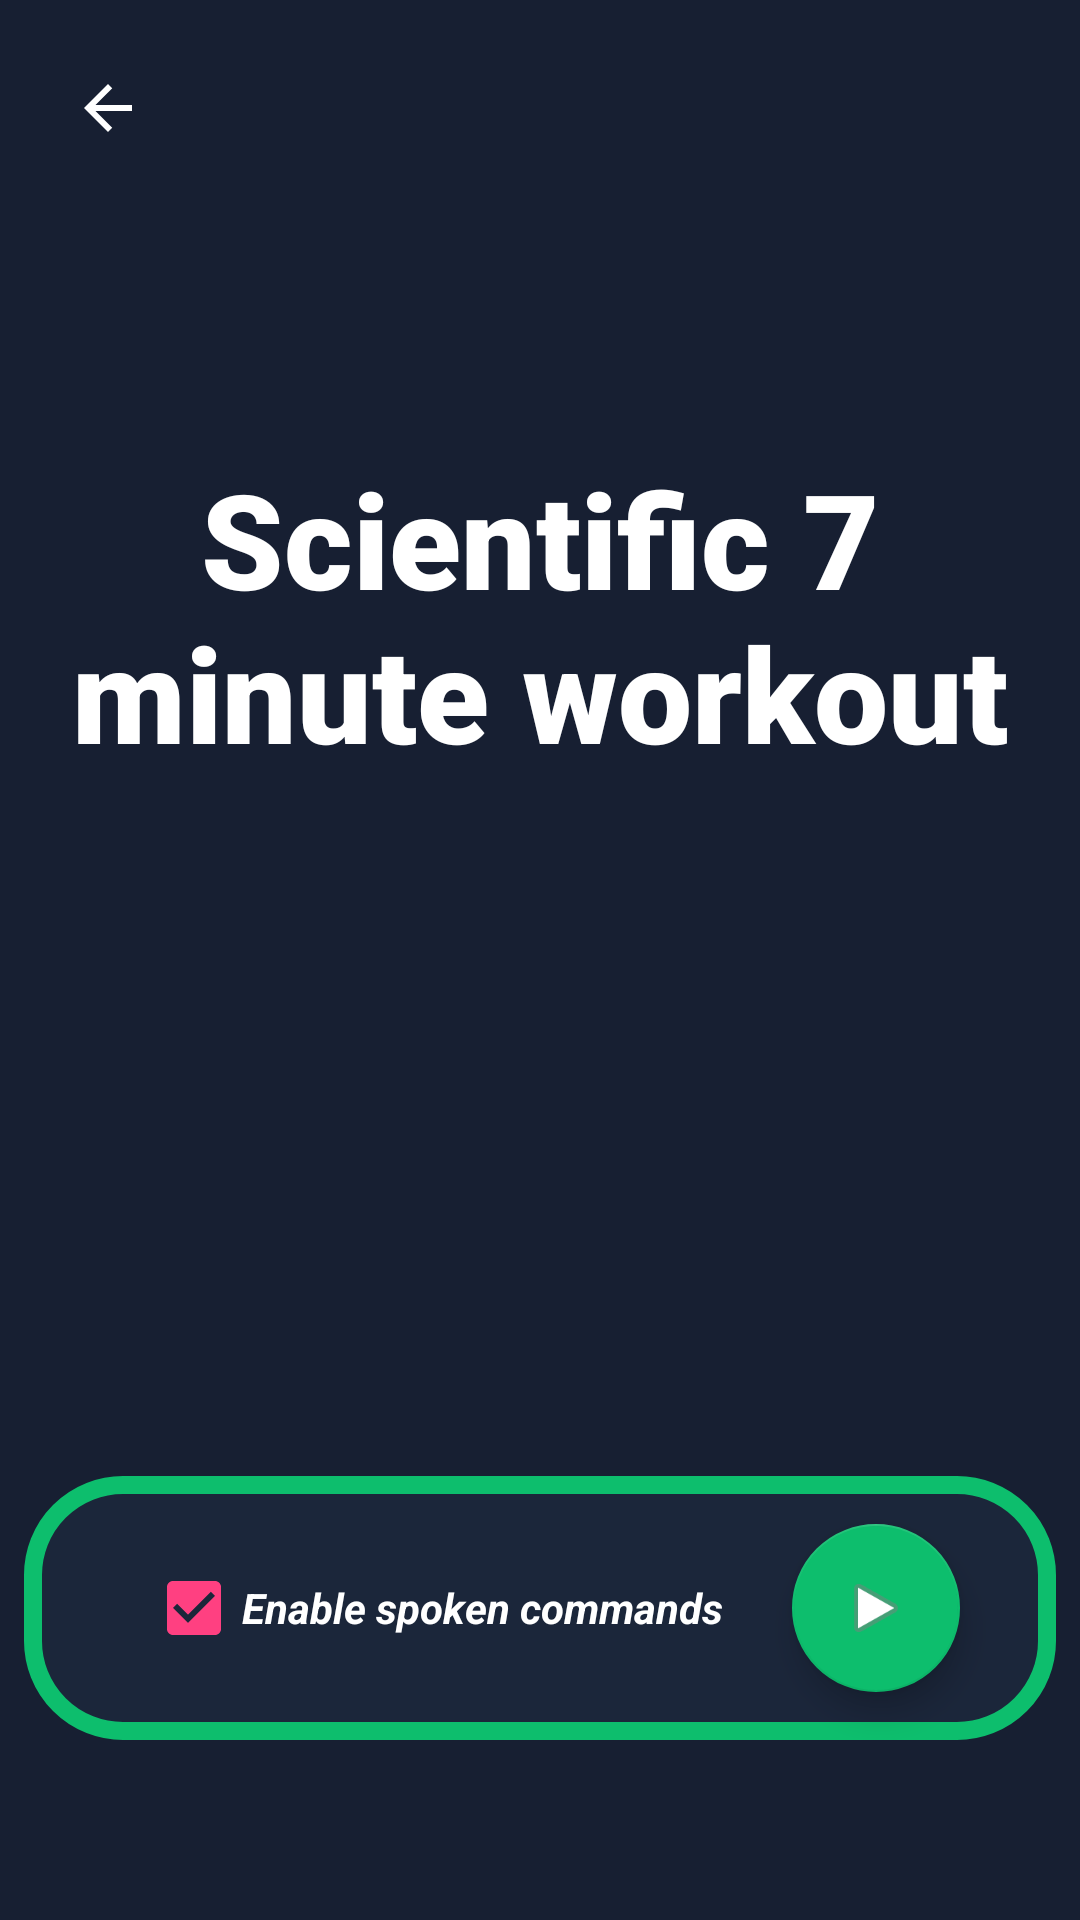

Locate icon controls on the screen. Image size 1080*1920, boxes as [x1=x1, y1=y1, x2=x2, y2=y2].
arrow back: [x1=84, y1=84, x2=132, y2=132]
Start workout: [x1=792, y1=1524, x2=960, y2=1692]
